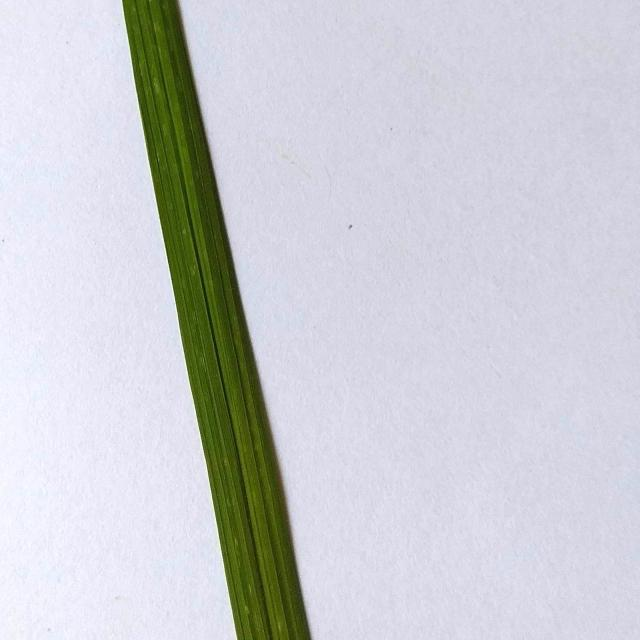healthy: (94, 0, 320, 640)
